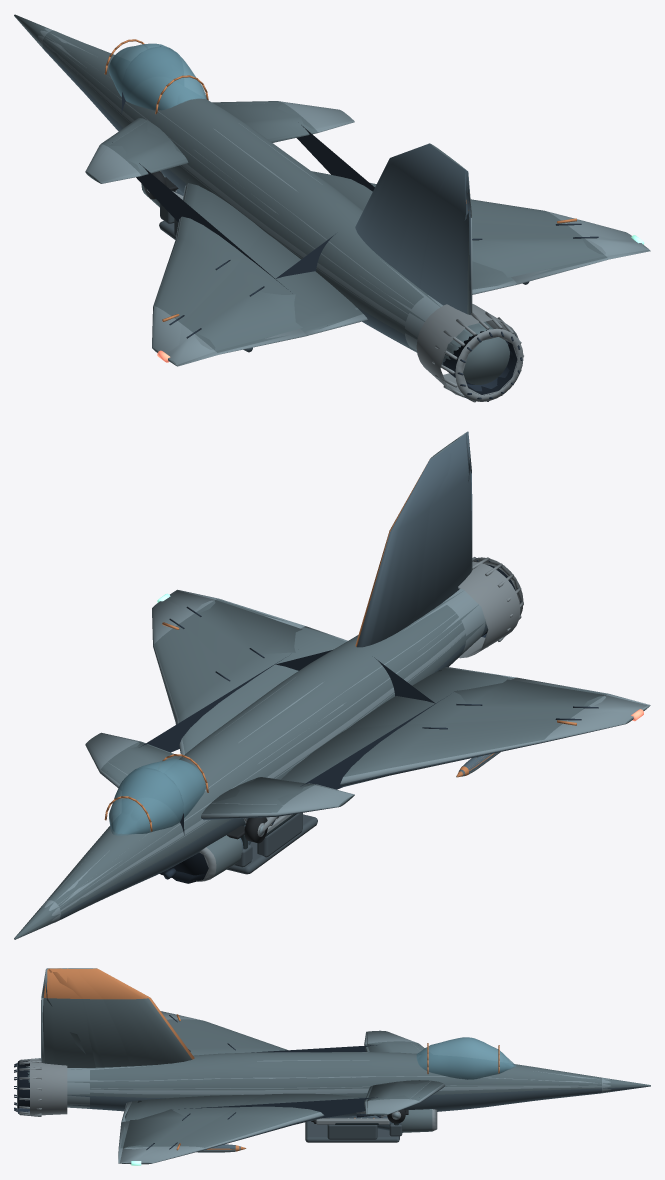
3 views of the same model, one above another, from view 1: azimuth 30°, elevation 25°; view 2: azimuth 150°, elevation 25°; view 3: azimuth 270°, elevation 25° (orthographic). The views are drawn at different scales.
Parts seen in each view (by area): view 1: Airframe shell mesh, Airframe shell.002 mesh, Airframe shell.001 mesh, Aft nacelles, Central fuselage, Canopy glass, Port wing, Canopy glass.001, Starboard wing, Canard, Canard.001, Forward fuselage (+2 smaller); view 2: Airframe shell mesh, Airframe shell.002 mesh, Airframe shell.001 mesh, Central fuselage, Aft nacelles, Canopy glass, Canopy glass.001, Port wing, Starboard wing, Cockpit shell mesh, Forward fuselage, Canard (+1 smaller); view 3: Airframe shell mesh, Airframe shell.001 mesh, Airframe shell.002 mesh, Aft nacelles, Central fuselage, Canopy glass, Cockpit shell mesh, Canopy glass.001, Starboard wing, Port wing, Forward fuselage, Canard.001 (+1 smaller).
Part boxes in pixels (bbox=[...]): Airframe shell mesh: bbox=[14, 15, 644, 402]; Airframe shell.002 mesh: bbox=[14, 14, 649, 401]; Airframe shell.001 mesh: bbox=[40, 31, 648, 395]; Aft nacelles: bbox=[276, 155, 523, 401]; Central fuselage: bbox=[106, 46, 359, 278]; Canopy glass: bbox=[109, 43, 206, 110]; Port wing: bbox=[85, 140, 327, 366]; Canopy glass.001: bbox=[109, 43, 205, 109]; Starboard wing: bbox=[268, 101, 635, 286]; Canard: bbox=[87, 118, 188, 183]; Canard.001: bbox=[212, 101, 354, 142]; Forward fuselage: bbox=[40, 29, 167, 125]; Airframe shell mesh: bbox=[14, 438, 643, 939]; Airframe shell.002 mesh: bbox=[14, 433, 649, 938]; Airframe shell.001 mesh: bbox=[14, 433, 648, 939]; Central fuselage: bbox=[105, 647, 434, 883]; Aft nacelles: bbox=[275, 433, 514, 702]; Canopy glass: bbox=[109, 759, 206, 833]; Canopy glass.001: bbox=[109, 759, 205, 833]; Port wing: bbox=[266, 673, 650, 815]; Starboard wing: bbox=[85, 593, 326, 776]; Cockpit shell mesh: bbox=[227, 813, 317, 874]; Forward fuselage: bbox=[46, 768, 183, 918]; Canard: bbox=[201, 778, 354, 818]; Airframe shell mesh: bbox=[14, 968, 650, 1165]; Airframe shell.001 mesh: bbox=[17, 968, 650, 1162]; Airframe shell.002 mesh: bbox=[17, 969, 650, 1163]; Aft nacelles: bbox=[17, 968, 196, 1114]; Central fuselage: bbox=[196, 1037, 466, 1131]; Canopy glass: bbox=[417, 1037, 513, 1079]; Cockpit shell mesh: bbox=[305, 1109, 408, 1142]; Canopy glass.001: bbox=[418, 1037, 509, 1078]; Starboard wing: bbox=[118, 1096, 423, 1164]; Port wing: bbox=[174, 1029, 421, 1055]; Forward fuselage: bbox=[467, 1037, 609, 1105]; Canard.001: bbox=[366, 1080, 445, 1114].
Bounding box in the file's own units: 9.88 × 4.76 × 17.04.
